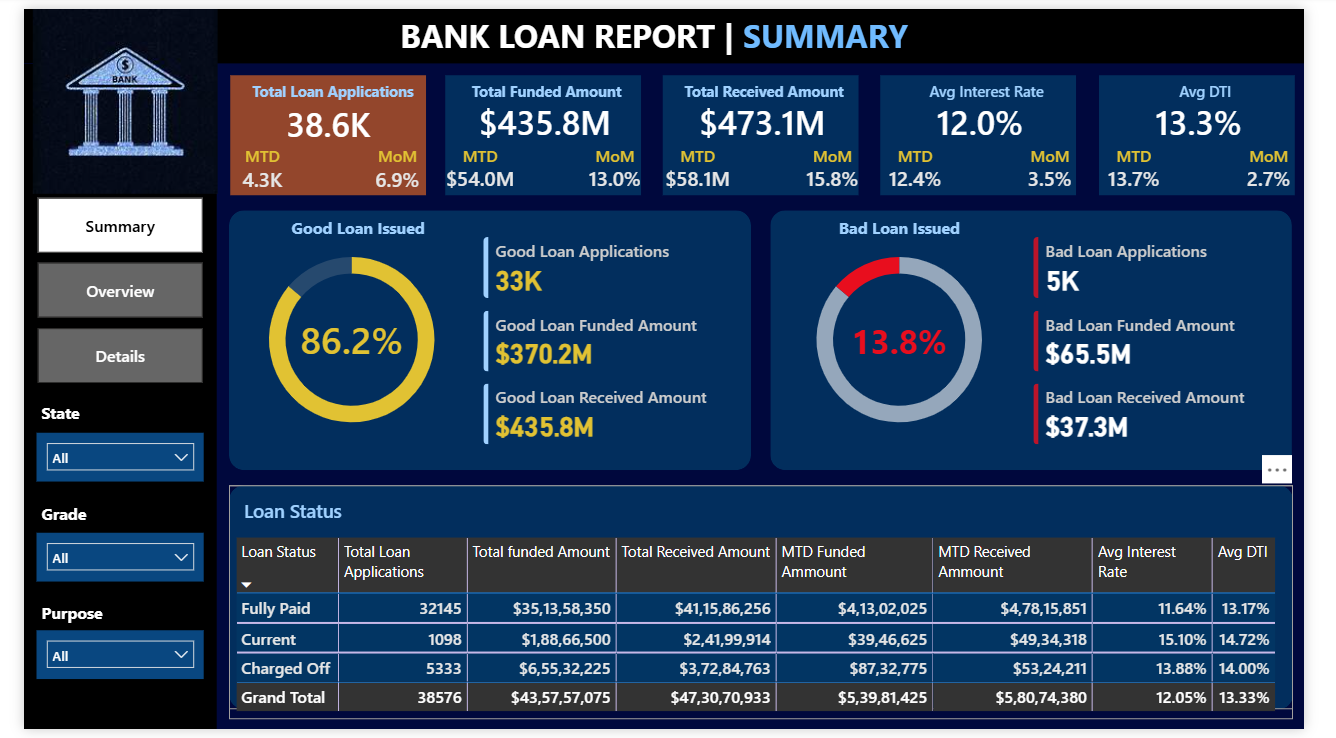

Layout of this report page (visuals, bound fields, positions):
{"tool":"powerbi","page":{"name":"Summary","canvas":[1280,720],"ordinal":0},"visuals":[{"type":"shape","box":[0,54.5,192.7,665.5],"z":0},{"type":"shape","box":[206.1,66,195.8,120],"z":0,"group":"g1"},{"type":"shape","box":[420.9,66,195.8,120],"z":0,"group":"g2"},{"type":"shape","box":[638.8,66,195.8,120],"z":0,"group":"g3"},{"type":"shape","box":[856.6,66,195.8,120],"z":0,"group":"g4"},{"type":"shape","box":[1074.9,66,195.8,120],"z":0,"group":"g5"},{"type":"card","fields":{"Values":["bank_loan.Total Loan Applications"]},"box":[232.8,89.6,144.2,50.9],"z":1000,"group":"g1"},{"type":"card","fields":{"Values":["bank_loan.Total funded Amount"]},"box":[449.8,92,142.4,42.7],"z":1000,"group":"g2"},{"type":"card","fields":{"Values":["bank_loan.Total amount received"]},"box":[667.7,92,142.4,42.7],"z":1000,"group":"g3"},{"type":"card","fields":{"Values":["bank_loan.Average Interest Rate"]},"box":[885.5,92,142.4,42.7],"z":1000,"group":"g4"},{"type":"card","fields":{"Values":["bank_loan.AVG DTI"]},"box":[1103.8,92,142.4,42.7],"z":1000,"group":"g5"},{"type":"shape","box":[745.9,201.1,521.7,260],"z":1000},{"type":"shape","box":[0,0,1280,54.5],"z":2000},{"type":"textbox","box":[435.6,67,172.6,40.9],"z":2000,"group":"g2"},{"type":"textbox","box":[653.5,67,172.6,40.9],"z":2000,"group":"g3"},{"type":"textbox","box":[876.3,67,172.6,40.9],"z":2000,"group":"g4"},{"type":"textbox","box":[1094.6,67,172.6,40.9],"z":2000,"group":"g5"},{"type":"textbox","box":[222.1,67.8,172.6,41.8],"z":2000,"group":"g1"},{"type":"card","title":"MTD","fields":{"Values":["bank_loan.Month to date Loan App"]},"box":[203.7,134.7,69.4,53.4],"z":3000,"group":"g1"},{"type":"card","title":"MTD","fields":{"Values":["bank_loan.Month to date Funded Ammount"]},"box":[416,134.7,80.1,51.6],"z":3000,"group":"g2"},{"type":"card","title":"MTD","fields":{"Values":["bank_loan.Month to date Received Ammount"]},"box":[633.9,134.7,80.1,51.6],"z":3000,"group":"g3"},{"type":"card","title":"MTD","fields":{"Values":["bank_loan.MTD Avg Interest Rate"]},"box":[851.7,134.7,80.1,51.6],"z":3000,"group":"g4"},{"type":"card","title":"MTD","fields":{"Values":["bank_loan.MTD Avg DTI"]},"box":[1070,134.7,80.1,51.6],"z":3000,"group":"g5"},{"type":"card","fields":{"Values":["bank_loan.Bad Loan %"]},"box":[804.3,311.1,143.3,41.7],"z":3000},{"type":"card","title":"MoM","fields":{"Values":["bank_loan.MOM Loan Applications"]},"box":[338.8,134.7,69.4,53.4],"z":4000,"group":"g1"},{"type":"card","title":"MoM","fields":{"Values":["bank_loan.MOM Funded Amount"]},"box":[556.6,134.7,69.4,51.6],"z":4000,"group":"g2"},{"type":"card","title":"MoM","fields":{"Values":["bank_loan.MOM Received Amount"]},"box":[774.5,134.7,69.4,51.6],"z":4000,"group":"g3"},{"type":"card","title":"MoM","fields":{"Values":["bank_loan.MOM Interest Rate"]},"box":[992.3,134.7,69.4,51.6],"z":4000,"group":"g4"},{"type":"card","title":"MoM","fields":{"Values":["bank_loan.MOM Avg DTI Rate"]},"box":[1210.6,134.7,69.4,51.6],"z":4000,"group":"g5"},{"type":"shape","box":[204.6,201.1,522,260],"z":4000},{"type":"card","fields":{"Values":["bank_loan.Good Loan %"]},"box":[255.9,309.4,143.3,41.7],"z":5000},{"type":"textbox","box":[237.6,202.8,193.3,38.3],"z":6000},{"type":"textbox","box":[370.9,0,538.2,56.4],"z":7000},{"type":"group","id":"g1","title":"Group 1","box":[203.7,66,204.5,122.1],"z":8000},{"type":"group","id":"g2","title":"Group 1","box":[416,66,210,120.3],"z":9000},{"type":"group","id":"g3","title":"Group 1","box":[633.9,66,210,119.2],"z":10000},{"type":"group","id":"g4","title":"Group 1","box":[851.7,66,210,120.3],"z":11000},{"type":"donutChart","fields":{"Category":["bank_loan.Good Vs Bad Loan"],"Y":["bank_loan.Total Loan Applications"]},"box":[754.3,222.8,243.3,216.7],"z":12000},{"type":"donutChart","fields":{"Category":["bank_loan.Good Vs Bad Loan"],"Y":["bank_loan.Total Loan Applications"]},"box":[205.9,222.8,243.3,216.7],"z":13000},{"type":"group","id":"g5","title":"Group 1","box":[1070,66,210,120],"z":14000},{"type":"cardVisual","fields":{"Data":["bank_loan.Good Loan Applications","bank_loan.Good Loan Funded Amount","bank_loan.Good Loan Received Amount"]},"box":[442.6,211.1,283.3,241.7],"z":15000},{"type":"textbox","box":[779.3,202.8,193.3,38.3],"z":16000},{"type":"cardVisual","fields":{"Data":["bank_loan.Bad Loan Applications","bank_loan.Bad Loan Funded Amount","bank_loan.Bad Loan Received Amount"]},"box":[992.6,211.1,270,241.7],"z":17000},{"type":"slicer","fields":{"Values":["bank_loan.address_state"]},"box":[12.7,423.6,167.3,49.1],"z":18000},{"type":"shape","box":[204.5,475.6,1064.3,224.3],"z":18000,"group":"g6"},{"type":"textbox","box":[12.7,387.3,50.9,38.2],"z":19000},{"type":"tableEx","fields":{"Values":["bank_loan.loan_status","bank_loan.Total Loan Applications","bank_loan.Total funded Amount","bank_loan.Total Received Amount","bank_loan.MTD Funded Ammount","bank_loan.MTD Received Ammount","bank_loan.Average Interest Rate","bank_loan.Avg DTI"]},"box":[206.3,523.7,1056,186],"z":19000,"group":"g6"},{"type":"textbox","box":[214.3,483.3,174.4,37.4],"z":20000,"group":"g6"},{"type":"slicer","fields":{"Values":["bank_loan.grade"]},"box":[12.7,523.9,167.3,49.1],"z":20000},{"type":"textbox","box":[12.7,489.4,69.1,38.2],"z":21000},{"type":"slicer","fields":{"Values":["bank_loan.purpose"]},"box":[12.7,621.8,167.3,49.1],"z":22000},{"type":"textbox","box":[12.7,587.3,83.6,38.2],"z":23000},{"type":"group","id":"g6","title":"Group 2","box":[204.5,475.6,1064.3,234.1],"z":24000},{"type":"image","box":[0,0,202.9,185.1],"z":25000},{"type":"pageNavigator","box":[14.2,188.7,165.5,185.1],"z":26000}]}

Visuals, with their boxes in screenshot pixels (x1, y1, x2, y2), scaled from the page's 1280x720 canvas onto the 1336x738 screenshot:
shape: l=0, t=56, r=201, b=737
shape: l=215, t=68, r=419, b=191
shape: l=439, t=68, r=644, b=191
shape: l=667, t=68, r=871, b=191
shape: l=894, t=68, r=1098, b=191
shape: l=1122, t=68, r=1326, b=191
card - bank_loan.Total Loan Applications: l=243, t=92, r=393, b=144
card - bank_loan.Total funded Amount: l=469, t=94, r=618, b=138
card - bank_loan.Total amount received: l=697, t=94, r=846, b=138
card - bank_loan.Average Interest Rate: l=924, t=94, r=1073, b=138
card - bank_loan.AVG DTI: l=1152, t=94, r=1301, b=138
shape: l=779, t=206, r=1323, b=473
shape: l=0, t=0, r=1335, b=56
textbox: l=455, t=69, r=635, b=111
textbox: l=682, t=69, r=862, b=111
textbox: l=915, t=69, r=1095, b=111
textbox: l=1142, t=69, r=1323, b=111
textbox: l=232, t=69, r=412, b=112
"MTD" card: l=213, t=138, r=285, b=193
"MTD" card: l=434, t=138, r=518, b=191
"MTD" card: l=662, t=138, r=745, b=191
"MTD" card: l=889, t=138, r=973, b=191
"MTD" card: l=1117, t=138, r=1200, b=191
card - bank_loan.Bad Loan %: l=839, t=319, r=989, b=362
"MoM" card: l=354, t=138, r=426, b=193
"MoM" card: l=581, t=138, r=653, b=191
"MoM" card: l=808, t=138, r=881, b=191
"MoM" card: l=1036, t=138, r=1108, b=191
"MoM" card: l=1264, t=138, r=1335, b=191
shape: l=214, t=206, r=758, b=473
card - bank_loan.Good Loan %: l=267, t=317, r=417, b=360
textbox: l=248, t=208, r=450, b=247
textbox: l=387, t=0, r=949, b=58
"Group 1" group: l=213, t=68, r=426, b=193
"Group 1" group: l=434, t=68, r=653, b=191
"Group 1" group: l=662, t=68, r=881, b=190
"Group 1" group: l=889, t=68, r=1108, b=191
donutChart - bank_loan.Good Vs Bad Loan x bank_loan.Total Loan Applications: l=787, t=228, r=1041, b=450
donutChart - bank_loan.Good Vs Bad Loan x bank_loan.Total Loan Applications: l=215, t=228, r=469, b=450
"Group 1" group: l=1117, t=68, r=1335, b=191
cardVisual - bank_loan.Good Loan Applications x bank_loan.Good Loan Funded Amount: l=462, t=216, r=758, b=464
textbox: l=813, t=208, r=1015, b=247
cardVisual - bank_loan.Bad Loan Applications x bank_loan.Bad Loan Funded Amount: l=1036, t=216, r=1318, b=464
slicer - bank_loan.address_state: l=13, t=434, r=188, b=485
shape: l=213, t=487, r=1324, b=717
textbox: l=13, t=397, r=66, b=436
tableEx - bank_loan.loan_status x bank_loan.Total Loan Applications: l=215, t=537, r=1318, b=727
textbox: l=224, t=495, r=406, b=534
slicer - bank_loan.grade: l=13, t=537, r=188, b=587
textbox: l=13, t=502, r=85, b=541
slicer - bank_loan.purpose: l=13, t=637, r=188, b=688
textbox: l=13, t=602, r=101, b=641
"Group 2" group: l=213, t=487, r=1324, b=727
image: l=0, t=0, r=212, b=190
pageNavigator: l=15, t=193, r=188, b=383
